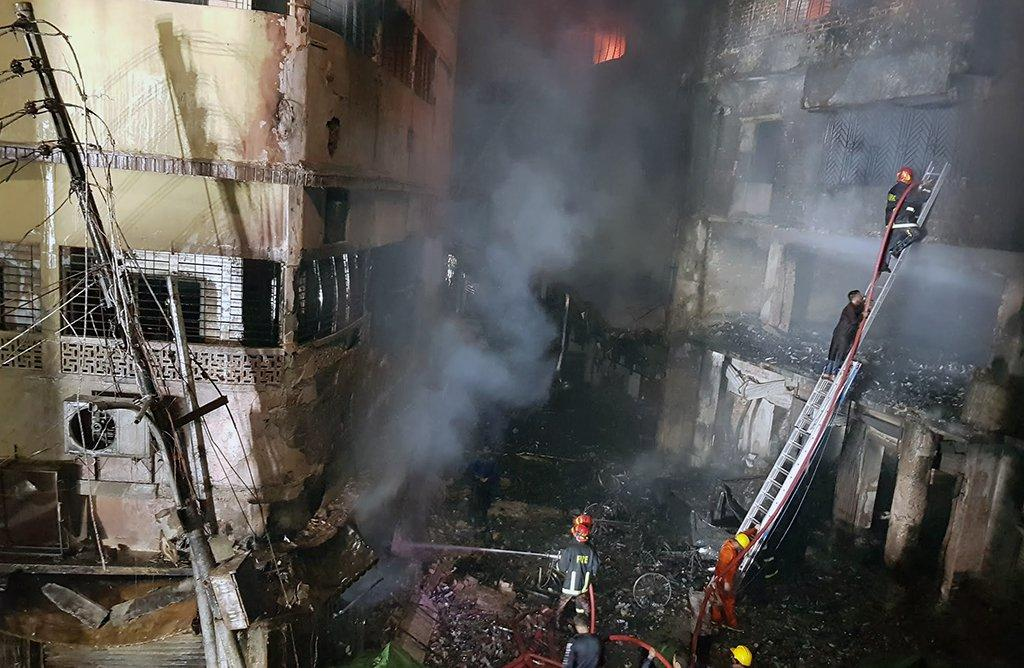Fire: (580, 34, 644, 75)
